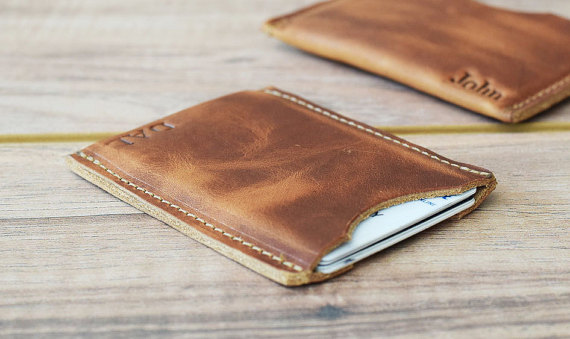monedero: (59, 83, 502, 289), (257, 1, 570, 129)
